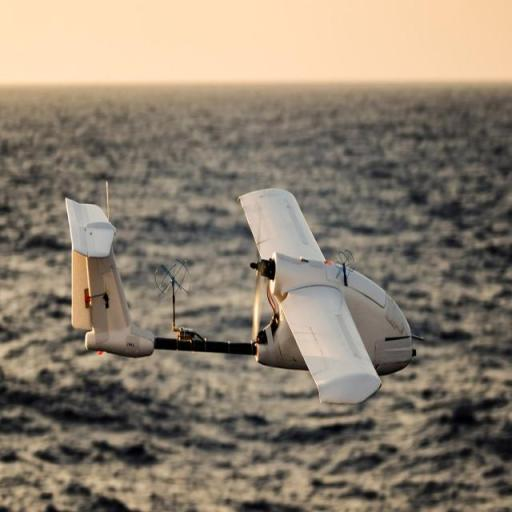uav: (48, 162, 429, 433)
